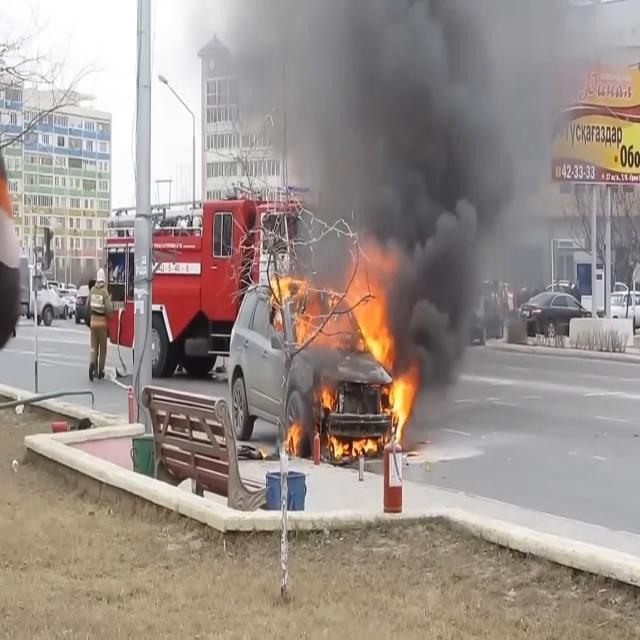fire: (267, 228, 422, 466)
